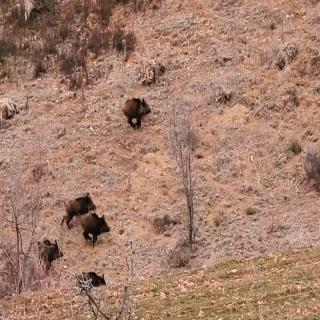Pig: (116, 86, 155, 126), (60, 185, 100, 221), (33, 226, 64, 261), (80, 209, 109, 240), (74, 267, 103, 293)
